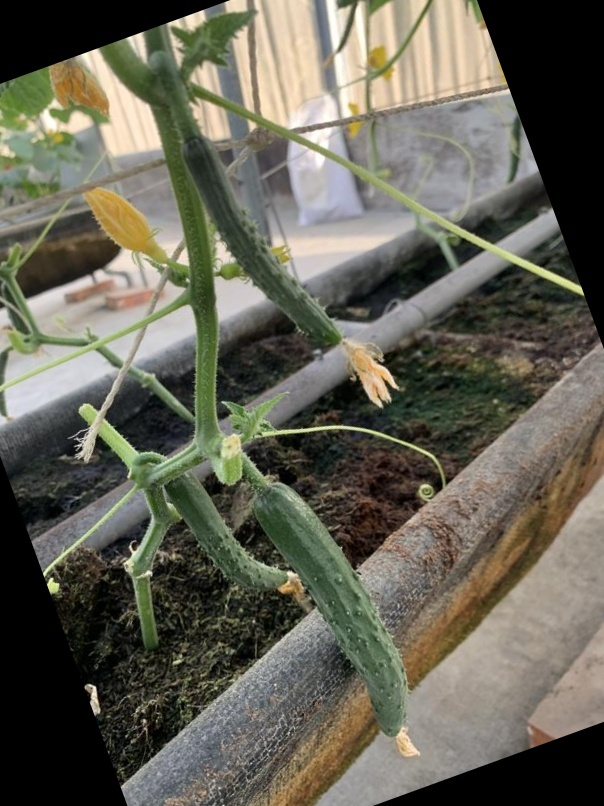bud: (76, 181, 161, 257)
growth: (180, 126, 376, 369), (160, 466, 296, 591)
mature: (260, 477, 411, 746)
